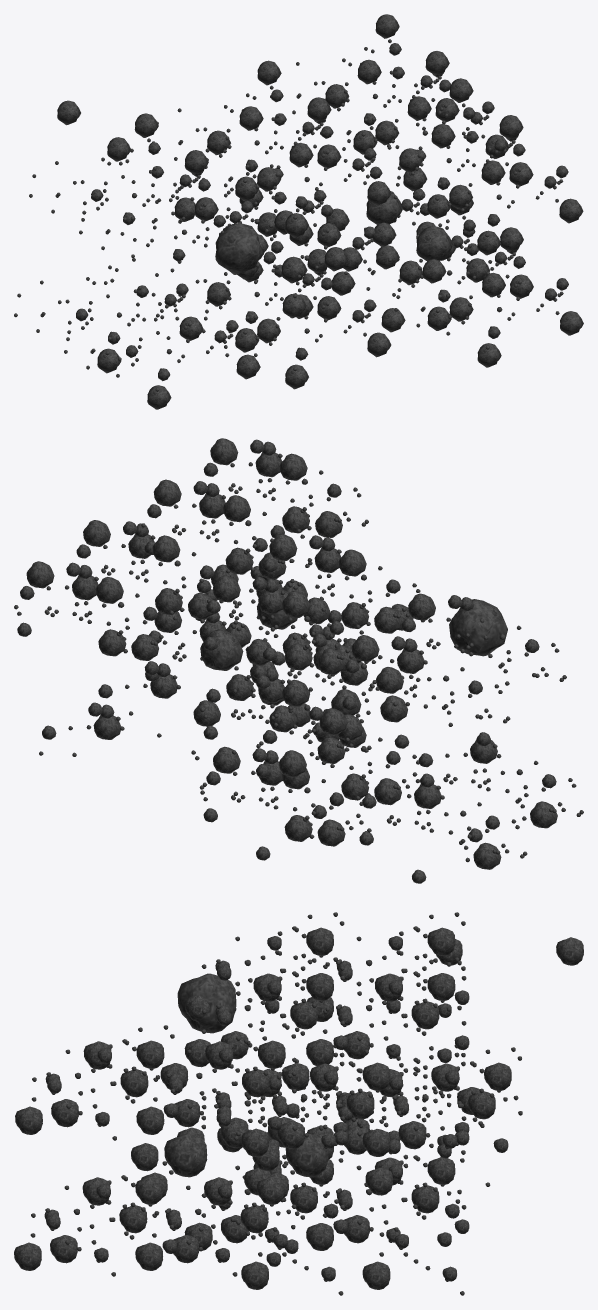
The model's file is MainMainMenuAsteriods.fbx.
3 renders of one model, top to bottom at view 1: azimuth 30°, elevation 25°; view 2: azimuth 150°, elevation 25°; view 3: azimuth 270°, elevation 25°, orthographic. The views are drawn at different scales.
Visible parts, largest first — view 1: untitled__40_, untitled__251_, untitled__251__1, untitled__288_; view 2: untitled__40_, untitled__251__1, untitled__100_, untitled__148_, untitled__247_, untitled__340_, untitled__151__1, untitled__151_, untitled__244_, untitled__244__1, untitled__247__1, untitled__343_ (+17 smaller); view 3: untitled__40_, untitled__251_, untitled__251__1, untitled__388__1, untitled__151__1, untitled__340__1, untitled__296__1, untitled__148_, untitled__244_, untitled__248_, untitled__340_, untitled__388_ (+37 smaller).
Part boxes in pixels (x1,y1,x2,y2): untitled__40_: (215,223,264,274); untitled__251_: (416,226,453,261); untitled__251__1: (366,191,403,224); untitled__288_: (281,256,307,283); untitled__40_: (449,599,507,656); untitled__251__1: (200,629,243,670); untitled__100_: (269,534,297,560); untitled__148_: (408,593,435,620); untitled__247_: (152,535,180,562); untitled__340_: (210,438,238,465); untitled__151__1: (319,708,347,735); untitled__151_: (376,667,403,693); untitled__244_: (83,520,110,546); untitled__244__1: (26,561,54,588); untitled__247__1: (96,577,123,603); untitled__343_: (279,453,307,480); untitled__40_: (177,973,236,1033); untitled__251_: (164,1133,207,1177); untitled__251__1: (285,1133,328,1177); untitled__388__1: (256,1176,284,1204); untitled__151__1: (556,937,583,965); untitled__340__1: (257,1040,285,1068); untitled__296__1: (362,1261,390,1289); untitled__148_: (306,927,333,955); untitled__244_: (362,1062,390,1090); untitled__248_: (241,1128,268,1156); untitled__340_: (136,1040,164,1068); untitled__388_: (135,1176,163,1204).
Bounding box in the file's own units: 617479 × 342074 × 574374.
